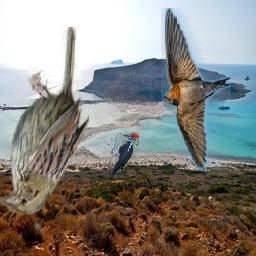Sparrow: (0, 27, 89, 215)
Swallow: (161, 9, 231, 172)
Woodpecker: (111, 133, 139, 178)
